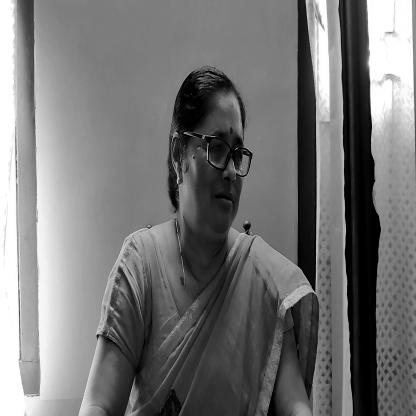Distracted: (173, 70, 253, 250)
